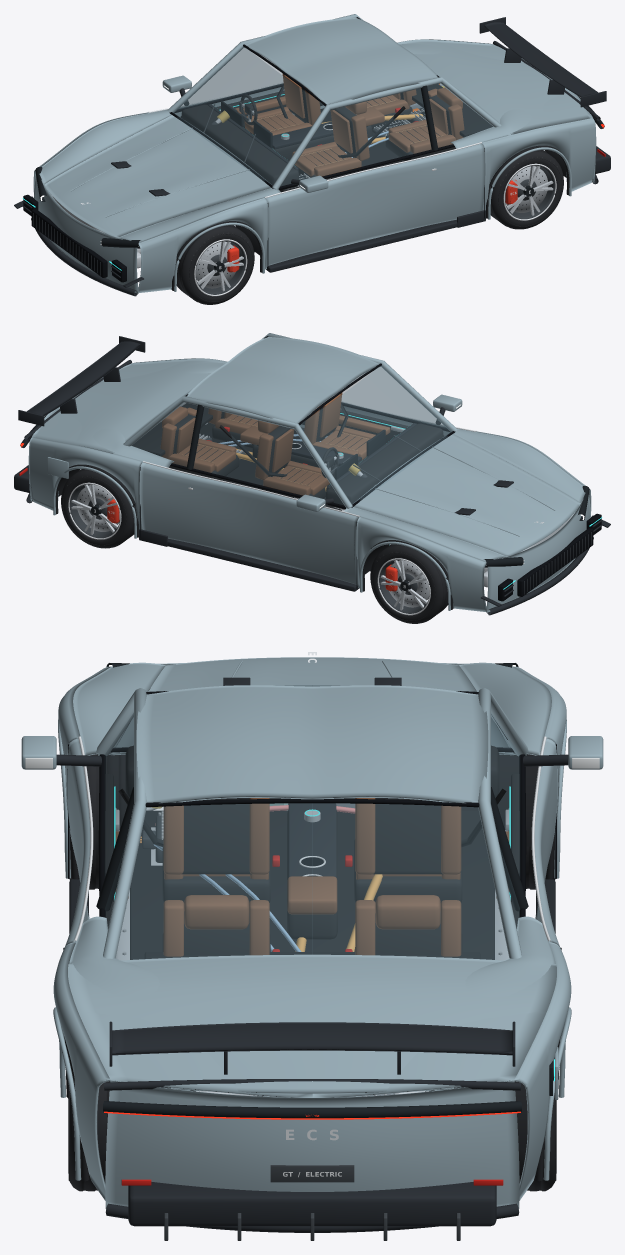
File: ev-vehicle-assembly.glb
The picture shows the model from 3 angles, top to bottom: view 1: azimuth 30°, elevation 25°; view 2: azimuth 150°, elevation 25°; view 3: azimuth 270°, elevation 25°; orthographic projection. The views are drawn at different scales.
Visible parts, largest first — view 1: GT_ev_body_front_GT_paint, GT_ev_glass_GT_glass, GT_ev_door_r_GT_paint, GT_ev_body_rear_GT_paint, GT_ev_roof_GT_paint, GT_ev_seats_GT_leather, GT_ev_aero_GT_carbon, GT_ev_cockpit_GT_leather_dark, GT_ev_wheel_fr_GT_tire, GT_ev_wheel_rr_GT_tire, GT_ev_aero_GT_seam, GT_ev_interior_GT_carpet (+18 smaller); view 2: GT_ev_body_front_GT_paint, GT_ev_glass_GT_glass, GT_ev_door_l_GT_paint, GT_ev_body_rear_GT_paint, GT_ev_roof_GT_paint, GT_ev_seats_GT_leather, GT_ev_aero_GT_carbon, GT_ev_cockpit_GT_leather_dark, GT_ev_wheel_fl_GT_tire, GT_ev_interior_GT_carpet, GT_ev_wheel_rl_GT_tire, GT_ev_aero_GT_seam (+19 smaller); view 3: GT_ev_body_rear_GT_paint, GT_ev_glass_GT_glass, GT_ev_roof_GT_paint, GT_ev_aero_GT_carbon, GT_ev_body_front_GT_paint, GT_ev_seats_GT_leather_dark, GT_ev_seats_GT_leather, GT_ev_interior_GT_carpet, GT_ev_lights_GT_gloss_black, GT_ev_roof_GT_seam, GT_ev_cockpit_GT_carbon, GT_ev_door_r_GT_paint (+15 smaller).
Boxes of the visible parts, x1,y1,x2,y2 form: GT_ev_body_front_GT_paint: (33, 109, 280, 293); GT_ev_glass_GT_glass: (173, 46, 493, 185); GT_ev_door_r_GT_paint: (265, 143, 485, 269); GT_ev_body_rear_GT_paint: (397, 39, 596, 219); GT_ev_roof_GT_paint: (167, 14, 501, 189); GT_ev_seats_GT_leather: (244, 73, 464, 176); GT_ev_aero_GT_carbon: (14, 17, 610, 296); GT_ev_cockpit_GT_leather_dark: (181, 94, 372, 190); GT_ev_wheel_fr_GT_tire: (176, 225, 254, 304); GT_ev_wheel_rr_GT_tire: (489, 150, 563, 229); GT_ev_aero_GT_seam: (23, 194, 126, 282); GT_ev_interior_GT_carpet: (276, 84, 492, 170); GT_ev_body_front_GT_paint: (344, 428, 591, 612); GT_ev_glass_GT_glass: (132, 365, 451, 504); GT_ev_door_l_GT_paint: (139, 462, 359, 588); GT_ev_body_rear_GT_paint: (28, 358, 227, 538); GT_ev_roof_GT_paint: (123, 333, 457, 508); GT_ev_seats_GT_leather: (160, 392, 375, 495); GT_ev_aero_GT_carbon: (14, 336, 610, 615); GT_ev_cockpit_GT_leather_dark: (252, 423, 443, 509); GT_ev_wheel_fl_GT_tire: (370, 544, 448, 623); GT_ev_interior_GT_carpet: (132, 403, 348, 507); GT_ev_wheel_rl_GT_tire: (61, 469, 134, 548); GT_ev_aero_GT_seam: (498, 513, 601, 601); GT_ev_body_rear_GT_paint: (53, 916, 571, 1208); GT_ev_glass_GT_glass: (105, 685, 519, 960); GT_ev_roof_GT_paint: (96, 685, 528, 958); GT_ev_aero_GT_carbon: (68, 879, 555, 1232); GT_ev_body_front_GT_paint: (58, 657, 566, 878); GT_ev_seats_GT_leather_dark: (162, 798, 462, 955); GT_ev_seats_GT_leather: (163, 798, 461, 956); GT_ev_interior_GT_carpet: (118, 788, 506, 959); GT_ev_lights_GT_gloss_black: (103, 663, 521, 1118); GT_ev_roof_GT_seam: (98, 691, 526, 917); GT_ev_cockpit_GT_carbon: (288, 803, 336, 876); GT_ev_door_r_GT_paint: (64, 738, 90, 947).
Size of the model in its own units: 4.32 by 1.34 by 2.15.
